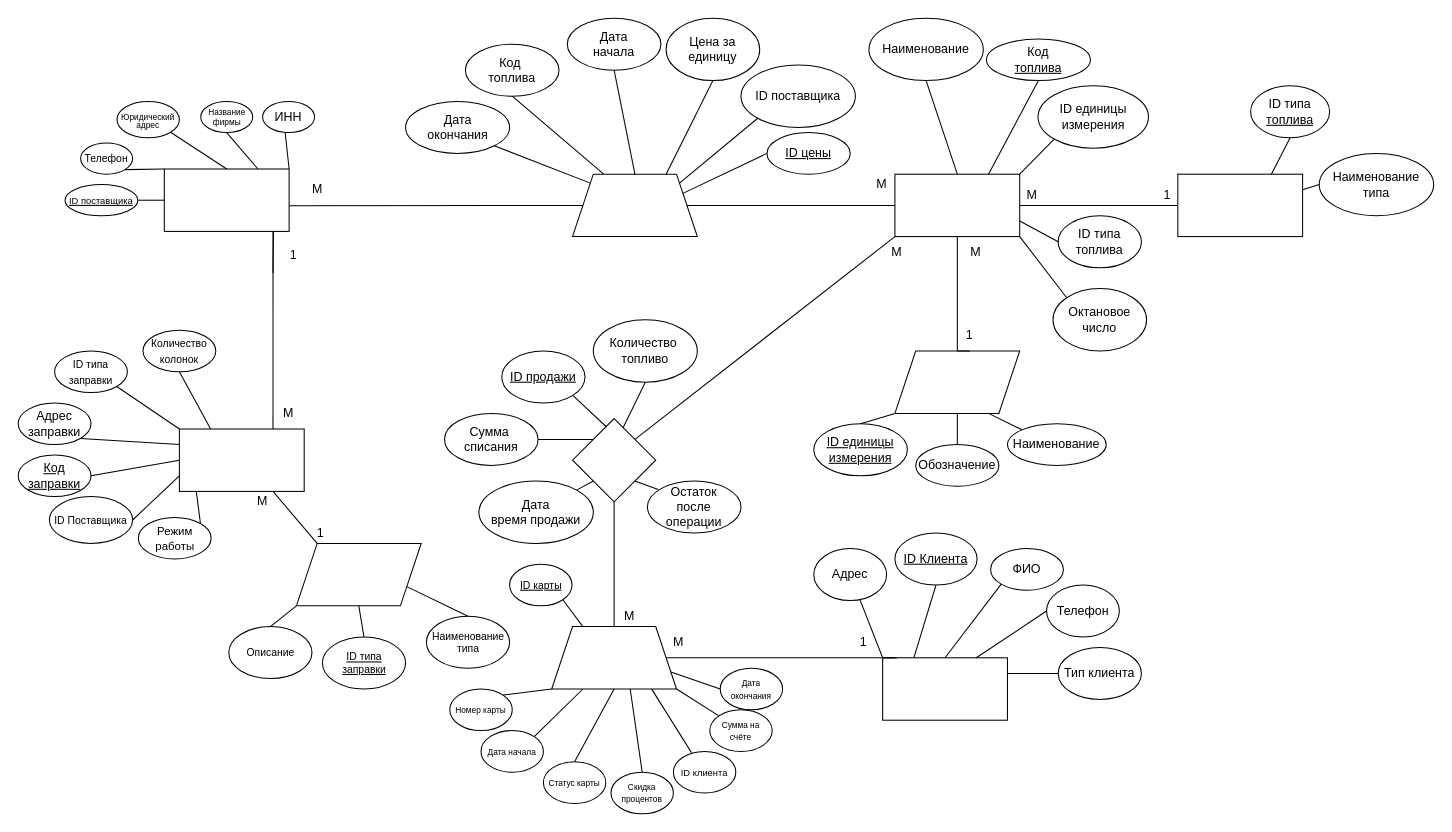
Some shapes in this 1452 by 832 pixel diagram are drawn without their labels. The box of each missing label's shape, as (x1, y1, x2, y2) in pixels:
Единица измерения: (894, 350, 1020, 413)
Заправка: (178, 428, 304, 491)
Карта счёт: (551, 626, 677, 689)
Клиент: (882, 657, 1007, 720)
Поставщик: (163, 168, 289, 231)
Продаваемое топливо: (894, 173, 1020, 237)
Продажа: (571, 418, 656, 502)
Тип заправки: (295, 542, 421, 606)
Тип топлива: (1177, 173, 1303, 237)
Цена топлива: (571, 173, 697, 237)
